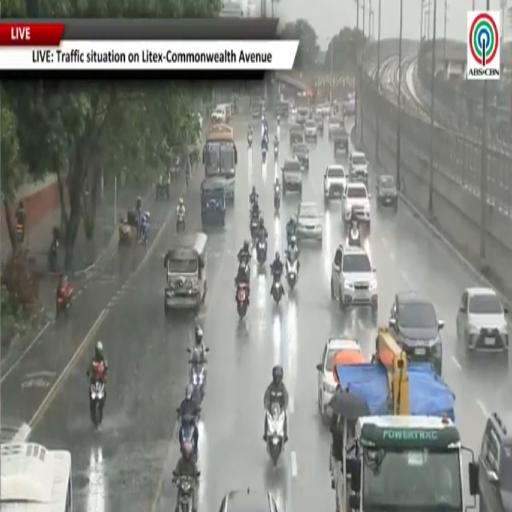bus: (0, 443, 73, 511), (203, 123, 237, 201)
car: (389, 291, 444, 375), (316, 336, 361, 418), (456, 287, 509, 353), (478, 413, 512, 512), (331, 245, 377, 314), (219, 488, 279, 511), (342, 182, 370, 230), (297, 202, 322, 242), (324, 164, 347, 201), (376, 174, 398, 210), (282, 158, 302, 196), (349, 152, 368, 187), (332, 125, 348, 157), (292, 142, 309, 170), (328, 115, 343, 140), (289, 123, 303, 148), (304, 119, 317, 141), (251, 100, 265, 120), (315, 115, 324, 136), (196, 112, 203, 130), (322, 102, 330, 116), (315, 104, 323, 115)
jeepney: (336, 415, 465, 511), (165, 233, 207, 313), (201, 178, 226, 230), (274, 101, 289, 119)
motorcycle: (266, 403, 285, 466), (173, 473, 197, 511), (179, 414, 198, 457), (90, 380, 104, 428), (190, 365, 206, 404), (56, 281, 73, 316), (286, 255, 297, 290), (237, 283, 248, 317), (272, 272, 284, 303), (48, 239, 58, 271), (256, 237, 267, 265), (348, 229, 361, 247), (286, 227, 296, 246), (16, 222, 24, 244), (140, 226, 149, 245), (250, 218, 258, 239), (274, 184, 280, 211), (177, 213, 185, 233), (202, 347, 209, 362), (262, 147, 267, 164), (248, 133, 253, 148), (274, 146, 278, 161)
truck: (332, 328, 474, 511), (296, 93, 310, 124)
